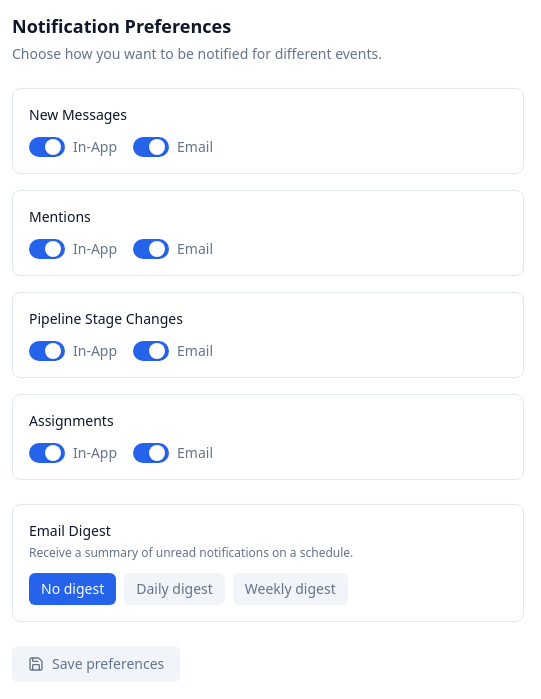
Test: NotificationPreferencesView › shows success message after save
Step 1. Click the switch with test id "pref-switch-mention-in_app" → coordinates (47, 249), box [29,239,65,259]
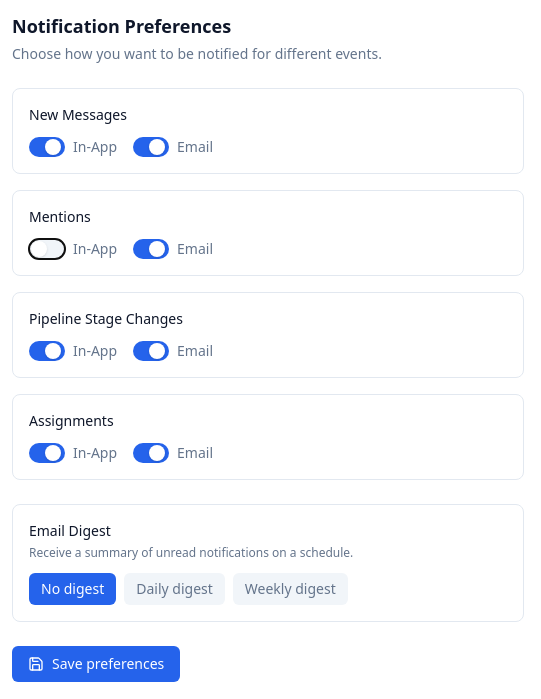
Step 2. Click the button with test id "save-preferences-btn" → coordinates (96, 664), box [12,646,180,682]
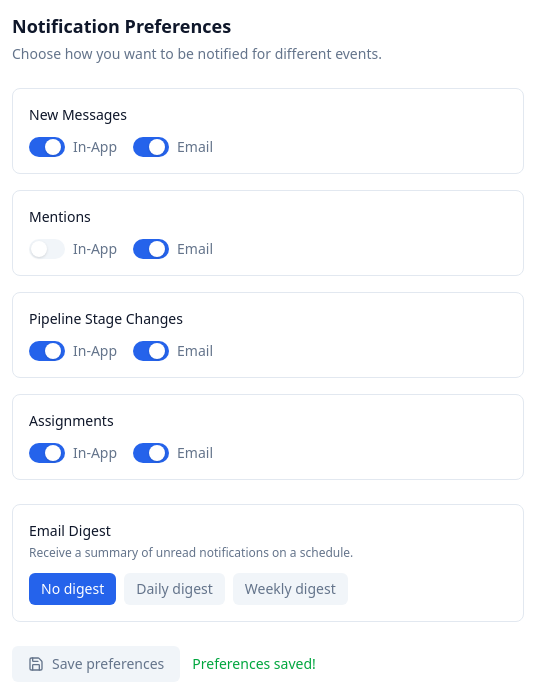
Expected: the text "Preferences saved!" is shown, [192,654,316,674]
